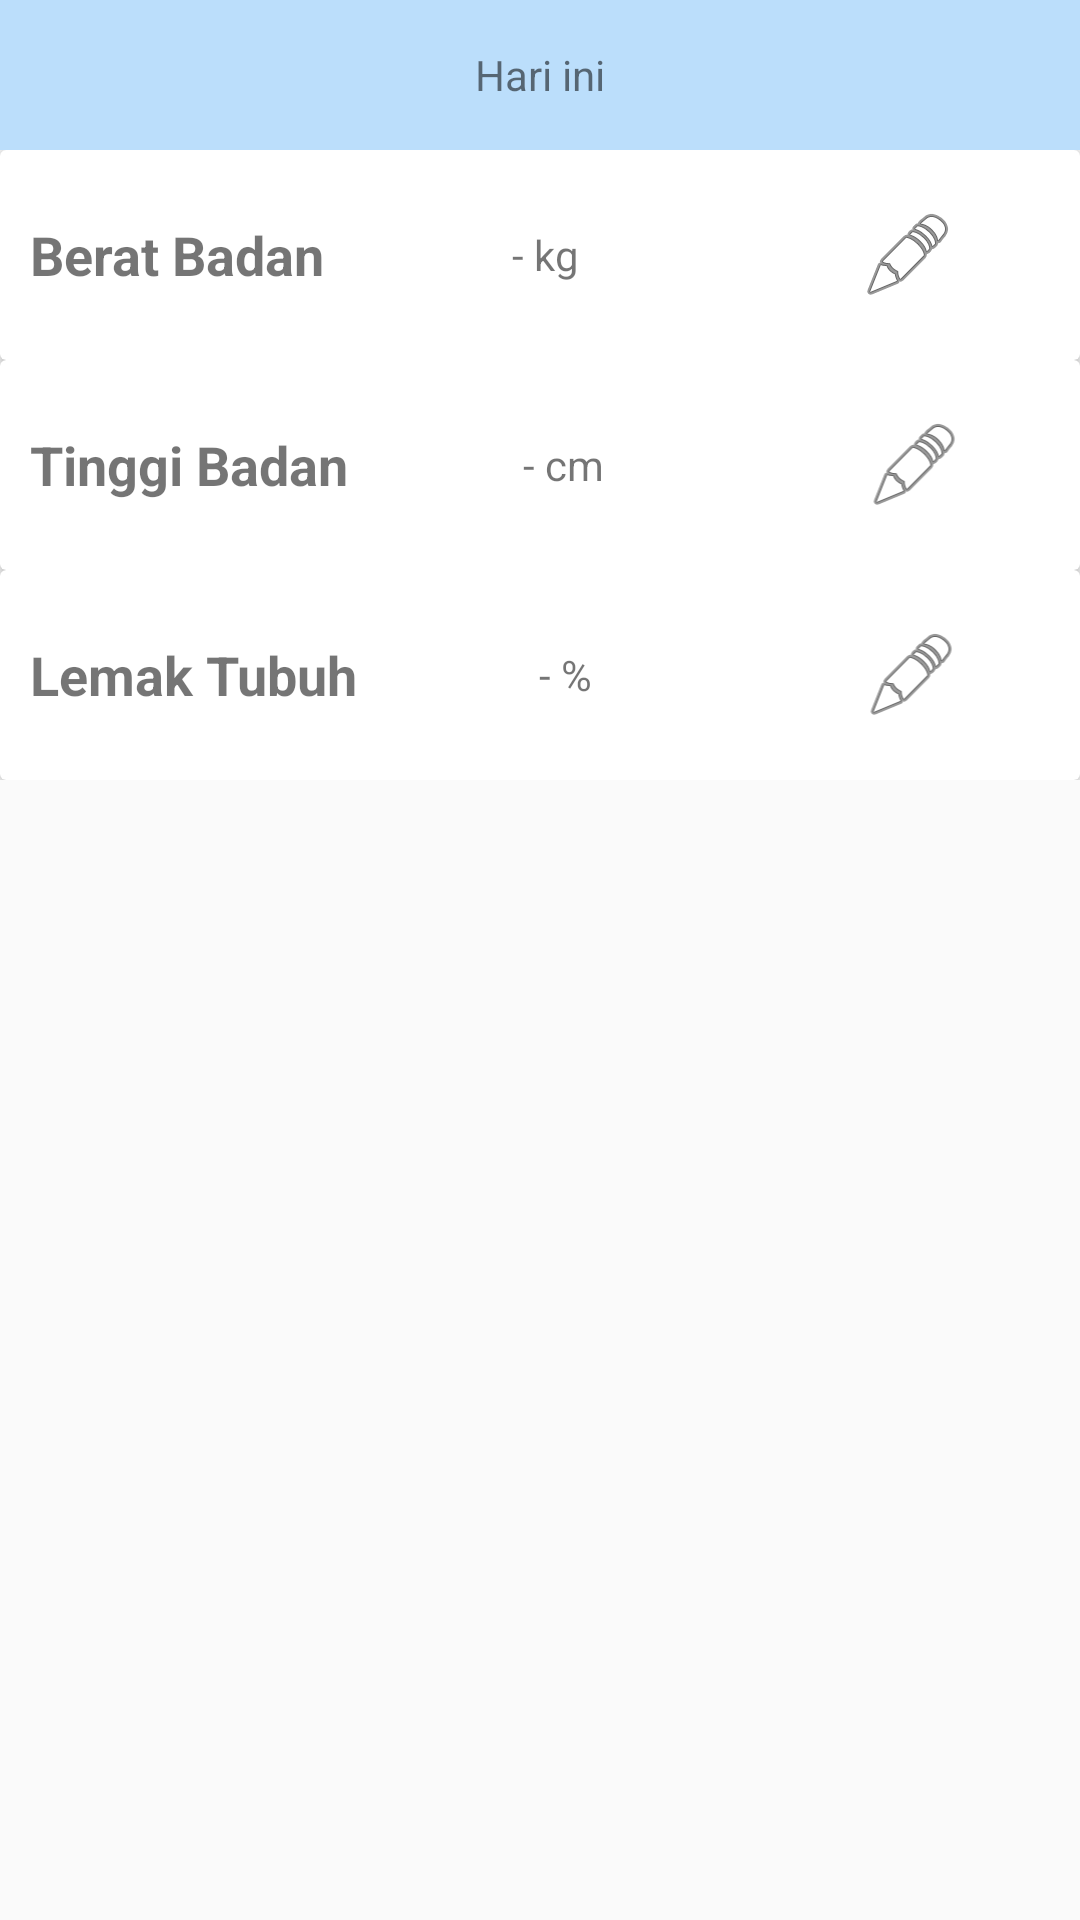

Point at icon controls on the screen. Image size 1080w x 1920h, points as point (x, y).
edit: point (907, 254), point (914, 464), point (911, 674)
